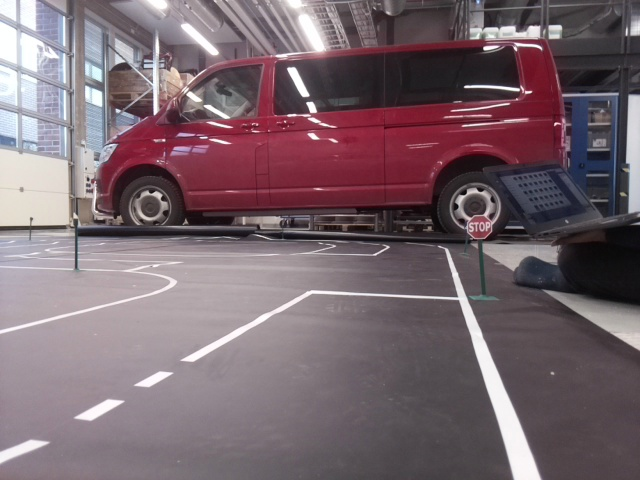Stop: (466, 216, 492, 239)
